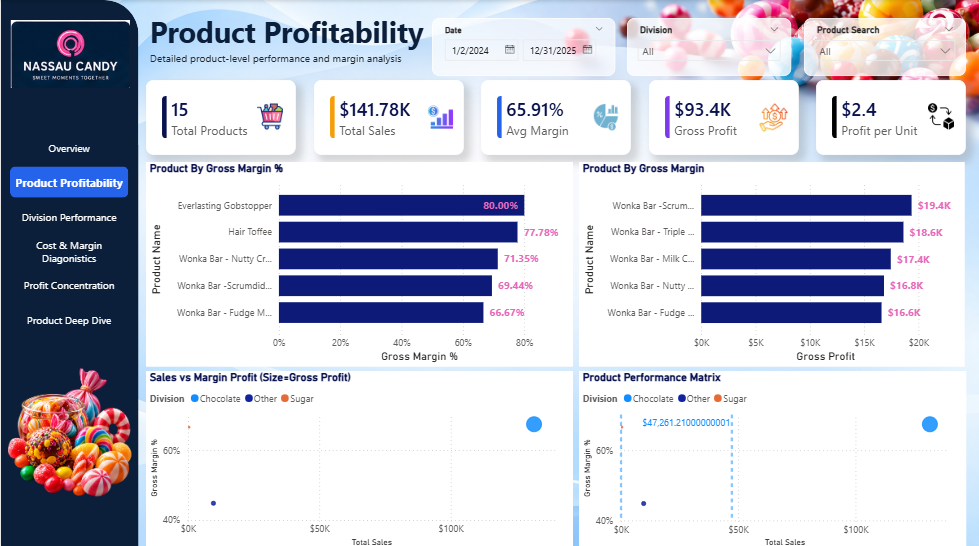

The page's visual inventory and layout, read from the dashboard file:
{"tool":"powerbi","page":{"name":"Product Profitability","canvas":[1280,720],"ordinal":1},"visuals":[{"type":"shape","box":[0,0,180,720],"z":0},{"type":"image","box":[7.2,25.9,165.6,89.3],"z":1000},{"type":"pageNavigator","box":[11.7,172.5,155.8,271.7],"z":2000},{"type":"image","box":[0,480,180,172],"z":3000},{"type":"textbox","box":[190.1,11.5,383,61.9],"z":4000},{"type":"textbox","box":[190.1,61.9,390.2,31.7],"z":5000},{"type":"slicer","fields":{"Values":["DimDate.Date"]},"box":[564.5,23,240.5,76.3],"z":6000},{"type":"slicer","fields":{"Values":["DimProduct.Division"]},"box":[819.4,23,214.6,76.3],"z":7000},{"type":"slicer","fields":{"Values":["FactSales.Product Name"]},"box":[1051.2,23,211.7,76.3],"z":8000},{"type":"cardVisual","fields":{"Data":["Count(FactSales.Product Name)"]},"box":[190.1,104.7,195.8,97.9],"z":9000},{"type":"image","box":[335.7,133.6,34.3,37.9],"z":10000},{"type":"cardVisual","fields":{"Data":["_Measures.Profit per Unit"]},"box":[1067,104.7,195.8,97.9],"z":11000},{"type":"cardVisual","fields":{"Data":["_Measures.Total Sales"]},"box":[409.3,104.7,195.8,97.9],"z":12000},{"type":"cardVisual","fields":{"Data":["_Measures.Gross Margin %"]},"box":[628.6,104.7,195.8,97.9],"z":13000},{"type":"cardVisual","fields":{"Data":["_Measures.Gross Profit"]},"box":[847.8,104.7,195.8,97.9],"z":14000},{"type":"image","box":[557.1,135,33.6,36.4],"z":15000},{"type":"image","box":[774.3,134.3,37.1,37.1],"z":16000},{"type":"image","box":[992.1,134.3,38.6,37.9],"z":17000},{"type":"image","box":[1213.6,131.4,34.3,42.9],"z":18000},{"type":"clusteredBarChart","title":"Product By Gross Margin %","fields":{"Category":["DimProduct.Product Name"],"Y":["_Measures.Gross Margin %"]},"box":[190,212.3,559.2,267.7],"z":19000},{"type":"clusteredBarChart","title":"Product By Gross Margin","fields":{"Category":["DimProduct.Product Name"],"Y":["_Measures.Gross Profit"]},"box":[756,211.7,505.4,267.8],"z":20000},{"type":"scatterChart","title":"Sales vs Margin Profit (Size=Gross Profit)","fields":{"Series":["DimProduct.Division"],"Size":["_Measures.Gross Profit"],"Y":["_Measures.Gross Margin %"],"X":["_Measures.Total Sales"]},"box":[190,485.7,558.6,234.3],"z":21000},{"type":"scatterChart","title":"Product Performance Matrix","fields":{"Series":["DimProduct.Division"],"Size":["_Measures.Gross Profit"],"Y":["_Measures.Gross Margin %"],"X":["_Measures.Total Sales"]},"box":[756,485.3,506.9,234.7],"z":22000}]}

Visuals, with their boxes in screenshot pixels (x1, y1, x2, y2), scaled from the page's 1280x720 canvas onto the 979x546 screenshot:
shape: pyautogui.locateOnScreen(0, 0, 138, 545)
image: pyautogui.locateOnScreen(6, 20, 132, 87)
pageNavigator: pyautogui.locateOnScreen(9, 131, 128, 337)
image: pyautogui.locateOnScreen(0, 364, 138, 494)
textbox: pyautogui.locateOnScreen(145, 9, 438, 56)
textbox: pyautogui.locateOnScreen(145, 47, 444, 71)
slicer - DimDate.Date: pyautogui.locateOnScreen(432, 17, 616, 75)
slicer - DimProduct.Division: pyautogui.locateOnScreen(627, 17, 791, 75)
slicer - FactSales.Product Name: pyautogui.locateOnScreen(804, 17, 966, 75)
cardVisual - Count(FactSales.Product Name): pyautogui.locateOnScreen(145, 79, 295, 154)
image: pyautogui.locateOnScreen(257, 101, 283, 130)
cardVisual - _Measures.Profit per Unit: pyautogui.locateOnScreen(816, 79, 966, 154)
cardVisual - _Measures.Total Sales: pyautogui.locateOnScreen(313, 79, 463, 154)
cardVisual - _Measures.Gross Margin %: pyautogui.locateOnScreen(481, 79, 631, 154)
cardVisual - _Measures.Gross Profit: pyautogui.locateOnScreen(648, 79, 798, 154)
image: pyautogui.locateOnScreen(426, 102, 452, 130)
image: pyautogui.locateOnScreen(592, 102, 621, 130)
image: pyautogui.locateOnScreen(759, 102, 788, 131)
image: pyautogui.locateOnScreen(928, 100, 954, 132)
"Product By Gross Margin %" clusteredBarChart: pyautogui.locateOnScreen(145, 161, 573, 364)
"Product By Gross Margin" clusteredBarChart: pyautogui.locateOnScreen(578, 161, 965, 364)
"Sales vs Margin Profit (Size=Gross Profit)" scatterChart: pyautogui.locateOnScreen(145, 368, 573, 545)
"Product Performance Matrix" scatterChart: pyautogui.locateOnScreen(578, 368, 966, 545)
